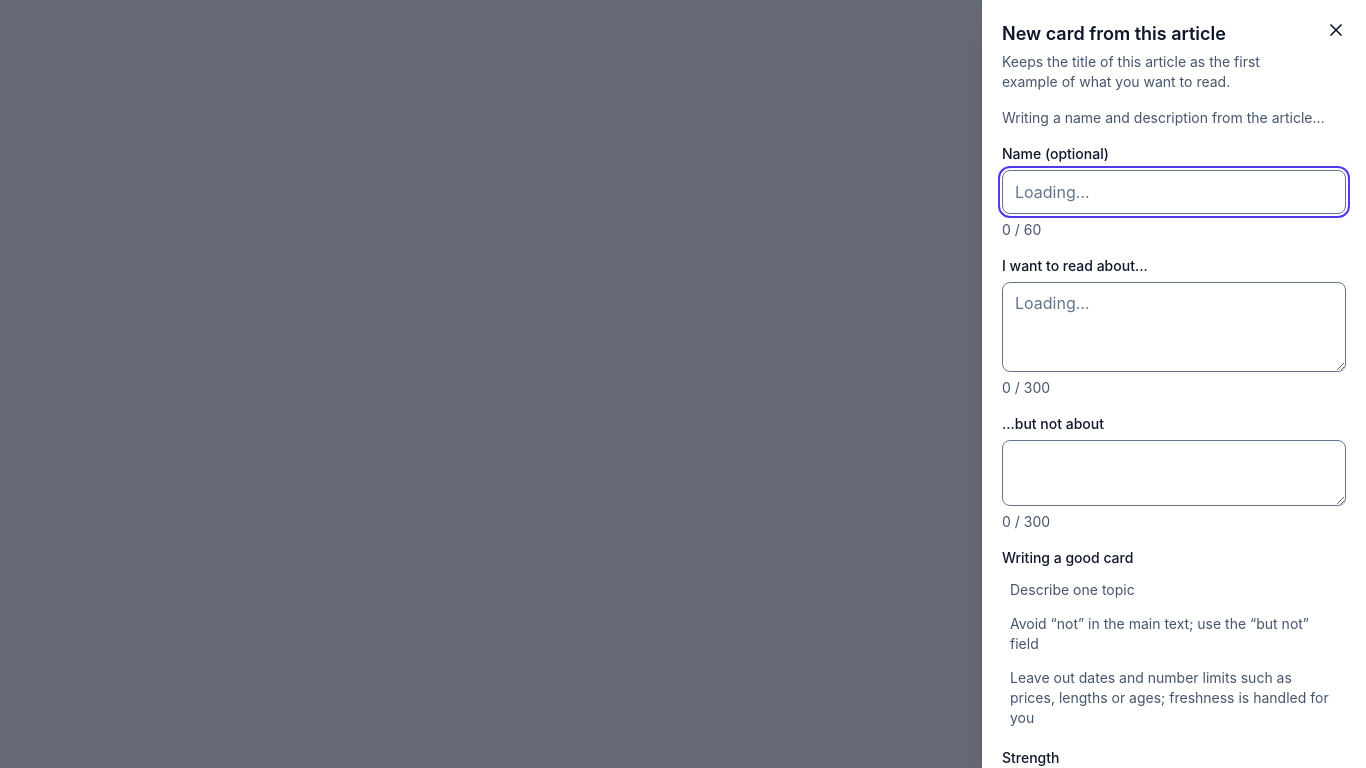
Test: the drafted name and interest (D-240) › never overwrites what the person typed before the draft came
The width and height of the screenshot is (1366, 768).
Expected: the text "Writing a name and description from the article…" is shown, [1002,108,1346,128]
Type "Mine" into the field labelled "Name (optional)".
click(1174, 192); type("Mine")  # box [1002,170,1346,214]
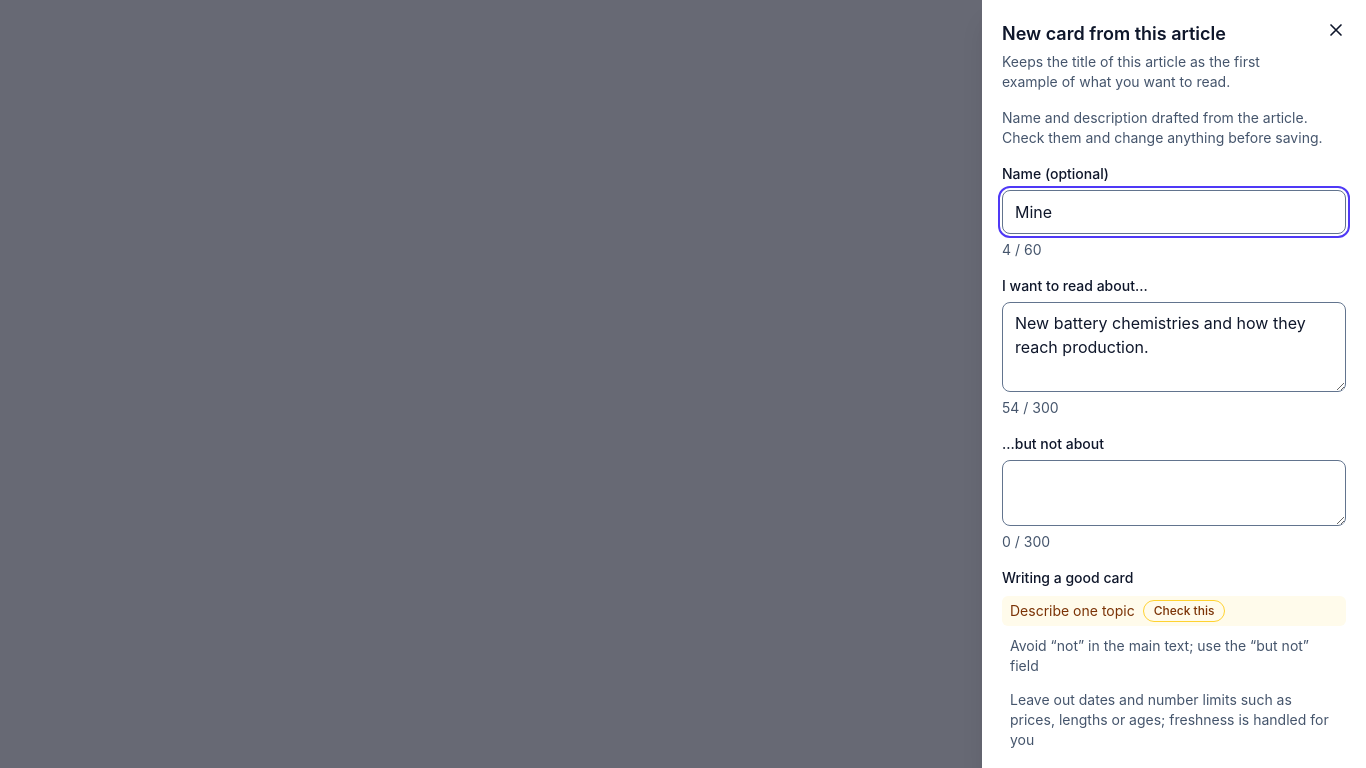
Result: the text box labelled "I want to read about…" holds "New battery chemistries and how they reach production." at [1002,302,1346,392]
